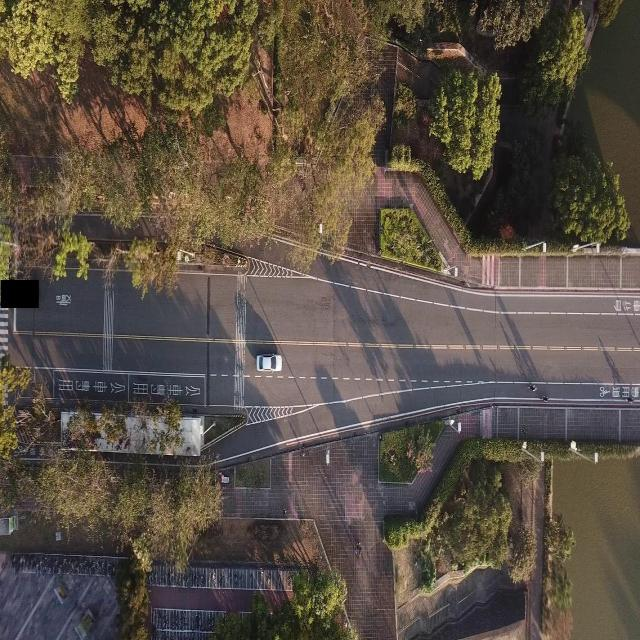car: (255, 351, 281, 370)
